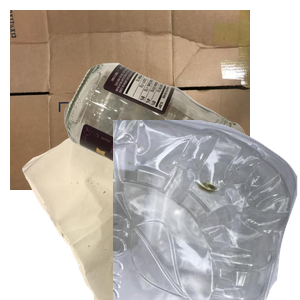cardboard: (10, 10, 250, 190)
glass: (62, 60, 300, 240)
plastic: (113, 120, 300, 300)
trash: (20, 120, 260, 300)
